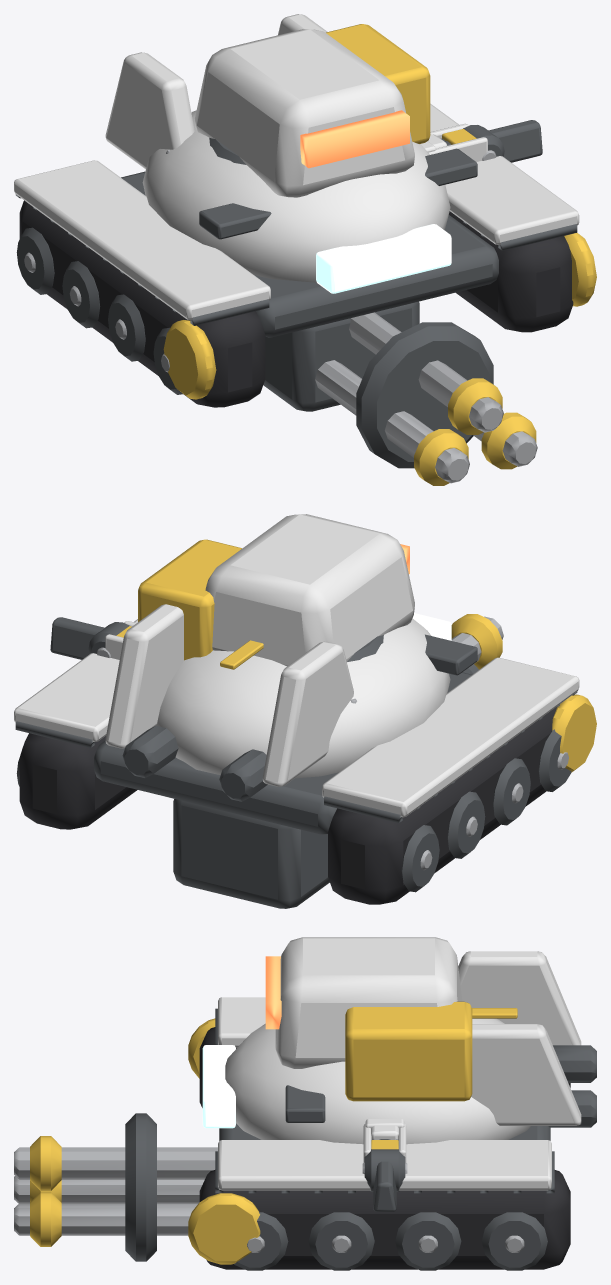
Rendered from burst.glb.
The picture shows the model from 3 angles, top to bottom: view 1: azimuth 30°, elevation 25°; view 2: azimuth 150°, elevation 25°; view 3: azimuth 270°, elevation 25°; orthographic projection. The views are drawn at different scales.
Parts seen in each view (by area): view 1: Hull, Turret, Barrel, LegLower, LegUpper; view 2: Hull, Turret, Barrel, LegLower, LegUpper; view 3: Hull, Turret, Barrel, LegUpper, LegLower.
Boxes of the visible parts, x1,y1,x2,y2 form: Hull: [14, 14, 596, 407]; Turret: [195, 24, 430, 197]; Barrel: [263, 301, 537, 485]; LegLower: [428, 120, 542, 162]; LegUpper: [421, 123, 504, 161]; Hull: [14, 604, 596, 904]; Turret: [138, 514, 414, 666]; Barrel: [173, 614, 503, 908]; LegLower: [50, 617, 131, 659]; LegUpper: [88, 621, 136, 659]; Hull: [188, 951, 596, 1270]; Turret: [265, 937, 472, 1101]; Barrel: [14, 1113, 217, 1261]; LegUpper: [362, 1119, 407, 1191]; LegLower: [371, 1125, 398, 1211].
Bounding box in the file's own units: 0.731 × 0.496 × 0.88.
